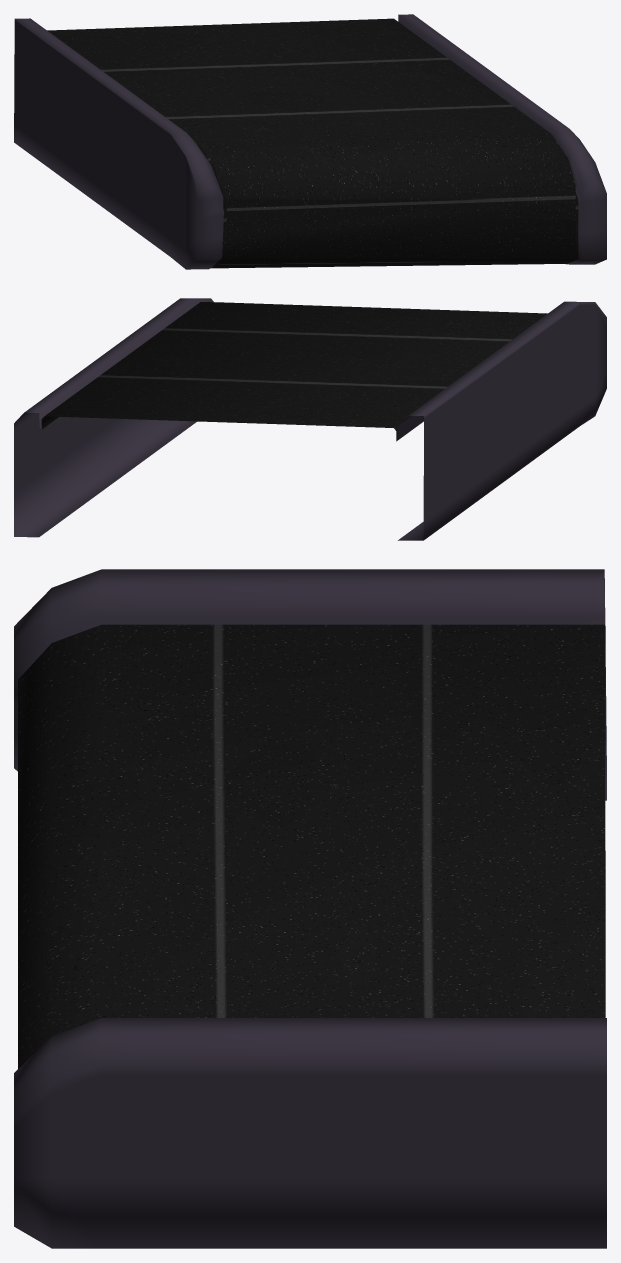
The model's file is SM_ConveyerBelt_End.fbx.
3 views of the same model, one above another, from view 1: azimuth 30°, elevation 25°; view 2: azimuth 150°, elevation 25°; view 3: azimuth 270°, elevation 25° (orthographic). The views are drawn at different scales.
Visible parts, largest first — view 1: SM_ConveyerBelt_Outer; view 2: SM_ConveyerBelt_Outer; view 3: SM_ConveyerBelt_Outer.
Boxes of the visible parts, x1,y1,x2,y2 form: SM_ConveyerBelt_Outer: (14,14,606,269); SM_ConveyerBelt_Outer: (14,298,606,540); SM_ConveyerBelt_Outer: (14,569,606,1248).
Size of the model in its own units: 200 by 103 by 155.
